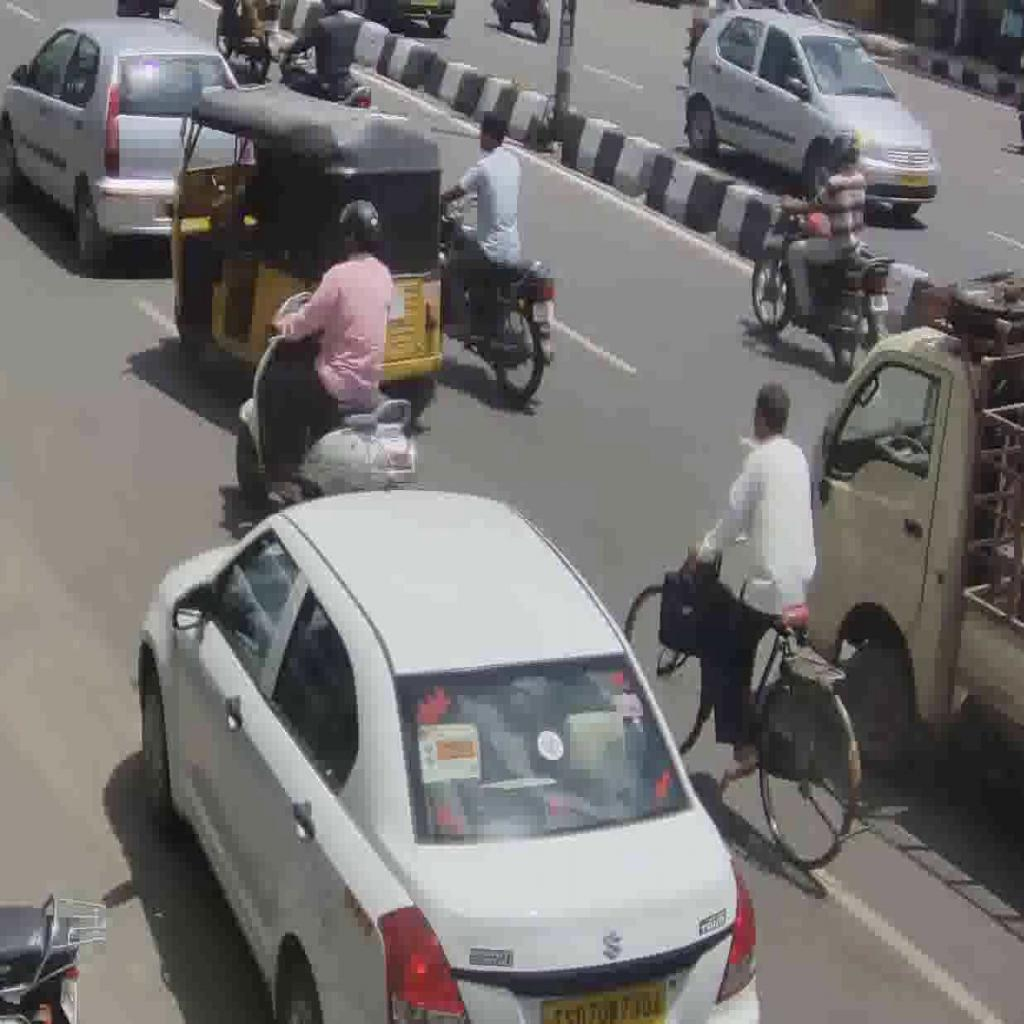helmet: (236, 286, 422, 507), (440, 187, 560, 401), (752, 192, 892, 374)
